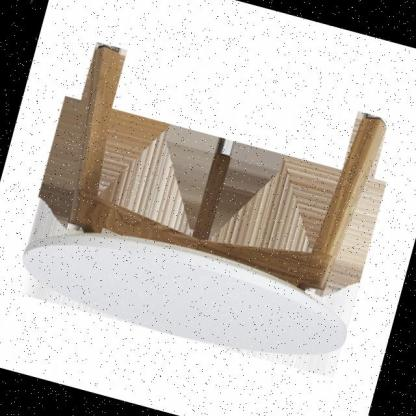Table: (0, 23, 416, 394)
